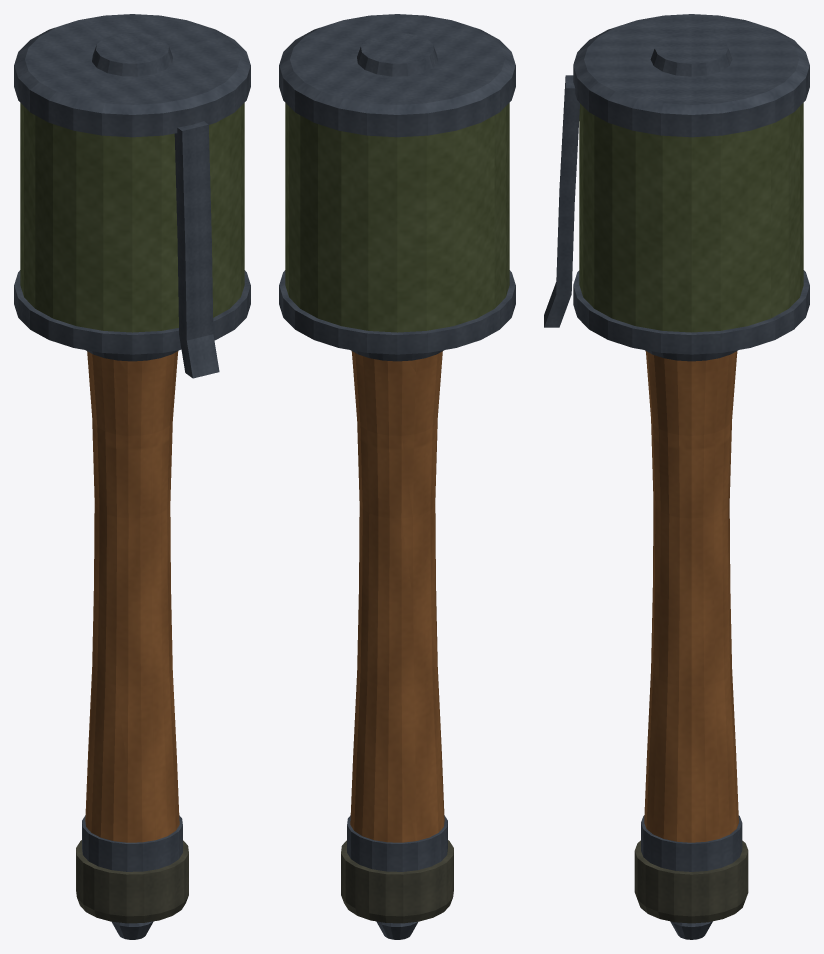
The model's file is stielhandgranate.glb.
The picture shows the model from 3 angles, left to right: view 1: azimuth 30°, elevation 25°; view 2: azimuth 150°, elevation 25°; view 3: azimuth 270°, elevation 25°; orthographic projection.
Visible parts, largest first — view 1: stielhandgranate.body; view 2: stielhandgranate.body; view 3: stielhandgranate.body.
Boxes of the visible parts, bbox=[...] form: stielhandgranate.body: bbox=[14, 14, 250, 939]; stielhandgranate.body: bbox=[279, 14, 515, 939]; stielhandgranate.body: bbox=[544, 14, 809, 939].
Bounding box in the file's own units: 0.1001 × 0.4134 × 0.1125.
4 materials, 4 textured.
